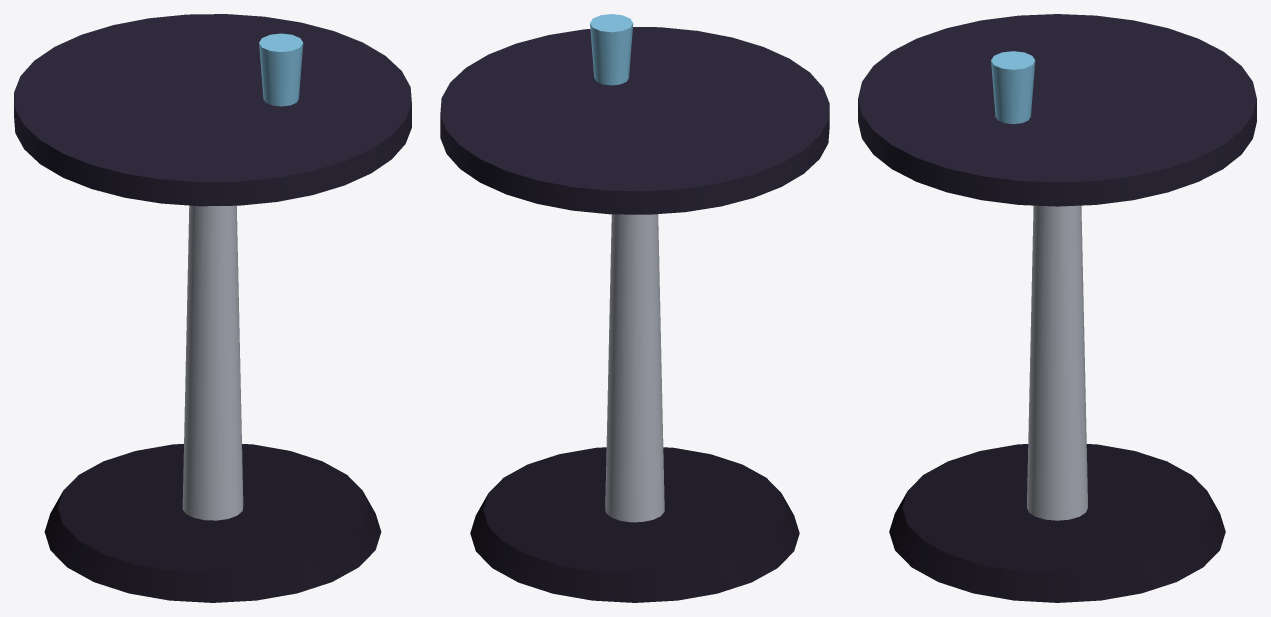
Rendered from HighTop.glb.
The picture shows the model from 3 angles, left to right: view 1: azimuth 30°, elevation 25°; view 2: azimuth 150°, elevation 25°; view 3: azimuth 270°, elevation 25°; orthographic projection. The views are drawn at different scales.
Parts seen in each view (by area): view 1: HighTop; view 2: HighTop; view 3: HighTop.
Boxes of the visible parts, left/top/right/bottom form: HighTop: left=14, top=14, right=411, bottom=602; HighTop: left=440, top=14, right=829, bottom=602; HighTop: left=858, top=14, right=1256, bottom=602.
Size of the model in its own units: 0.9 by 1.23 by 0.9.
